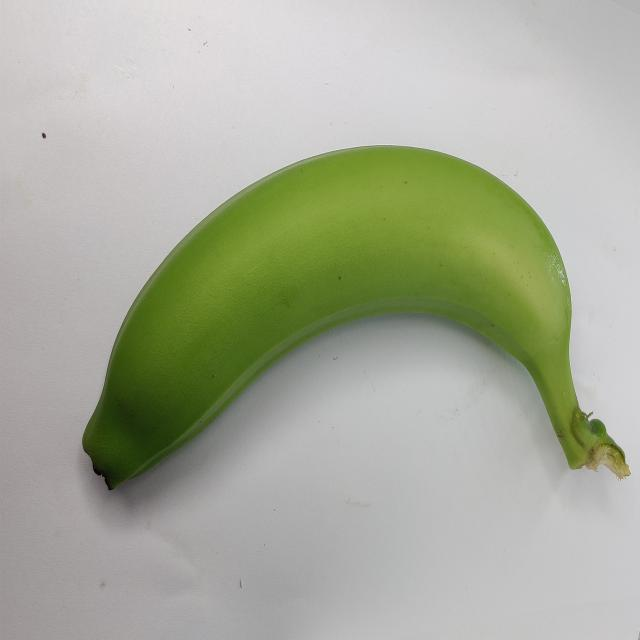Raw: (43, 110, 640, 525)
